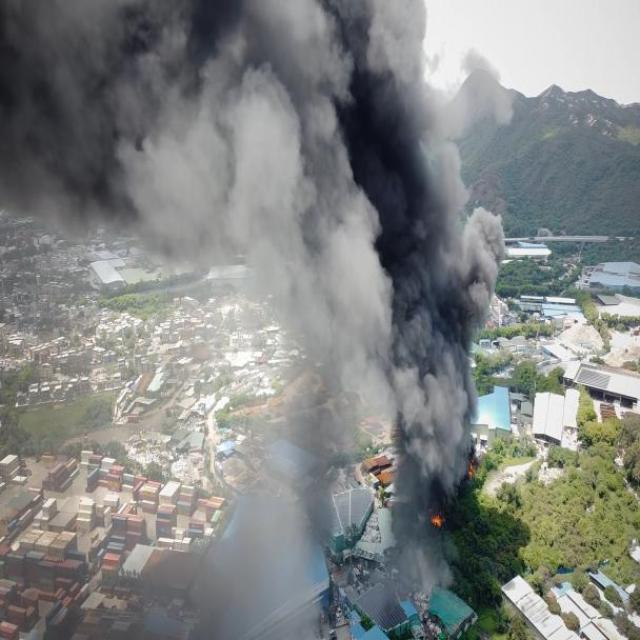Smoke: (0, 0, 444, 246), (258, 252, 470, 588)
